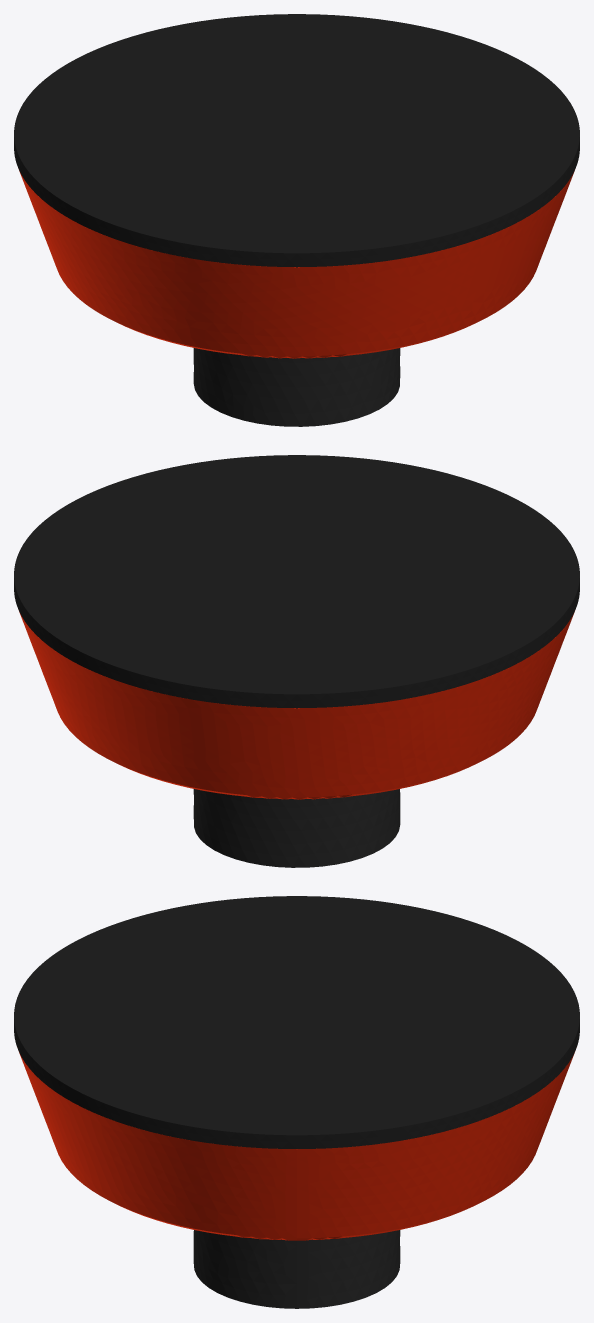
Rendered from tool_base.dae.
3 renders of one model, top to bottom at view 1: azimuth 30°, elevation 25°; view 2: azimuth 150°, elevation 25°; view 3: azimuth 270°, elevation 25°, orthographic.
Parts seen in each view (by area): view 1: node2, node0, node1; view 2: node2, node0, node1; view 3: node2, node0, node1.
Part boxes in pixels (box(x1,y1,x2,y2)): node2: box(14, 14, 579, 267); node0: box(19, 171, 574, 358); node1: box(193, 348, 400, 426); node2: box(14, 455, 579, 708); node0: box(19, 612, 574, 799); node1: box(193, 789, 400, 867); node2: box(14, 896, 579, 1148); node0: box(19, 1052, 574, 1240); node1: box(193, 1230, 400, 1308).
Bounding box in the file's own units: 0.074 × 0.074 × 0.036.
